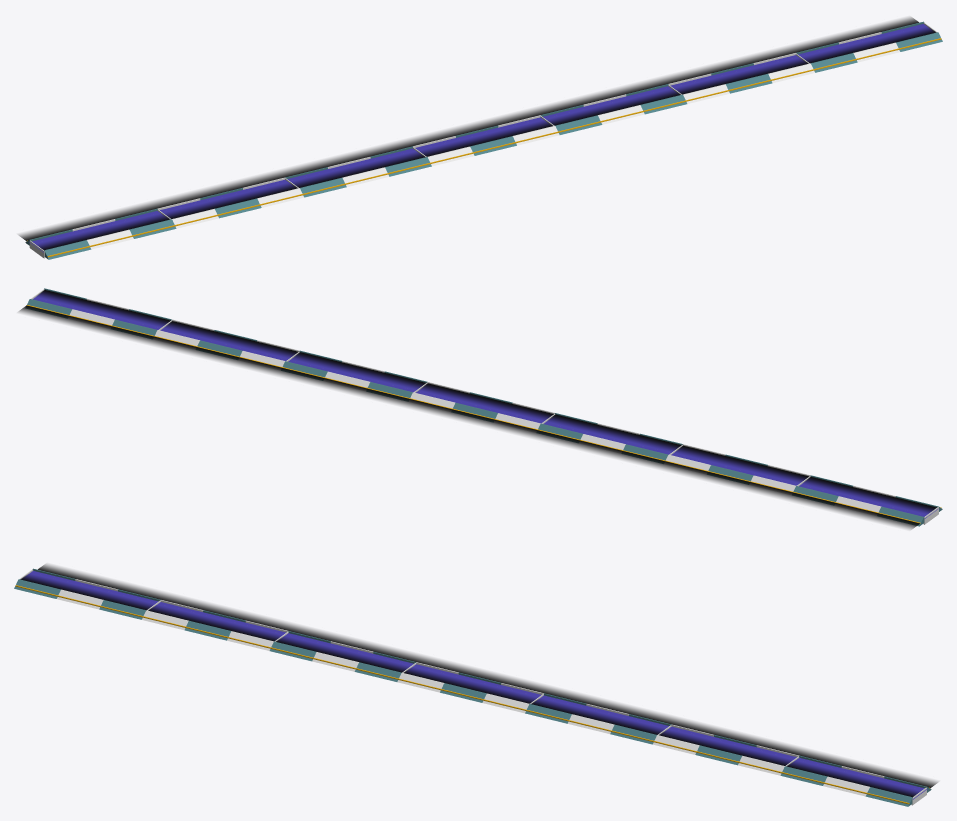
File: waterLine.glb
3 renders of one model, top to bottom at view 1: azimuth 30°, elevation 25°; view 2: azimuth 150°, elevation 25°; view 3: azimuth 330°, elevation 25°, orthographic.
Parts seen in each view (by area): view 1: ramp, water, grad, grad2, sides; view 2: ramp, water, grad, grad2, sides; view 3: ramp, water, grad, grad2, sides.
Boxes of the visible parts, x1,y1,x2,y2 form: ramp: (25, 21, 942, 259); water: (29, 24, 933, 252); grad: (19, 17, 918, 241); grad2: (38, 28, 935, 250); sides: (27, 38, 941, 257); ramp: (26, 288, 942, 526); water: (33, 292, 938, 518); grad: (19, 305, 919, 529); grad2: (37, 290, 936, 512); sides: (26, 305, 941, 523); ramp: (14, 568, 931, 806); water: (23, 571, 927, 799); grad: (38, 564, 937, 788); grad2: (20, 575, 918, 797); sides: (15, 585, 929, 804).
Size of the model in its own units: 71.47 by 0.5943 by 4.83.
7 materials, 2 textured.
